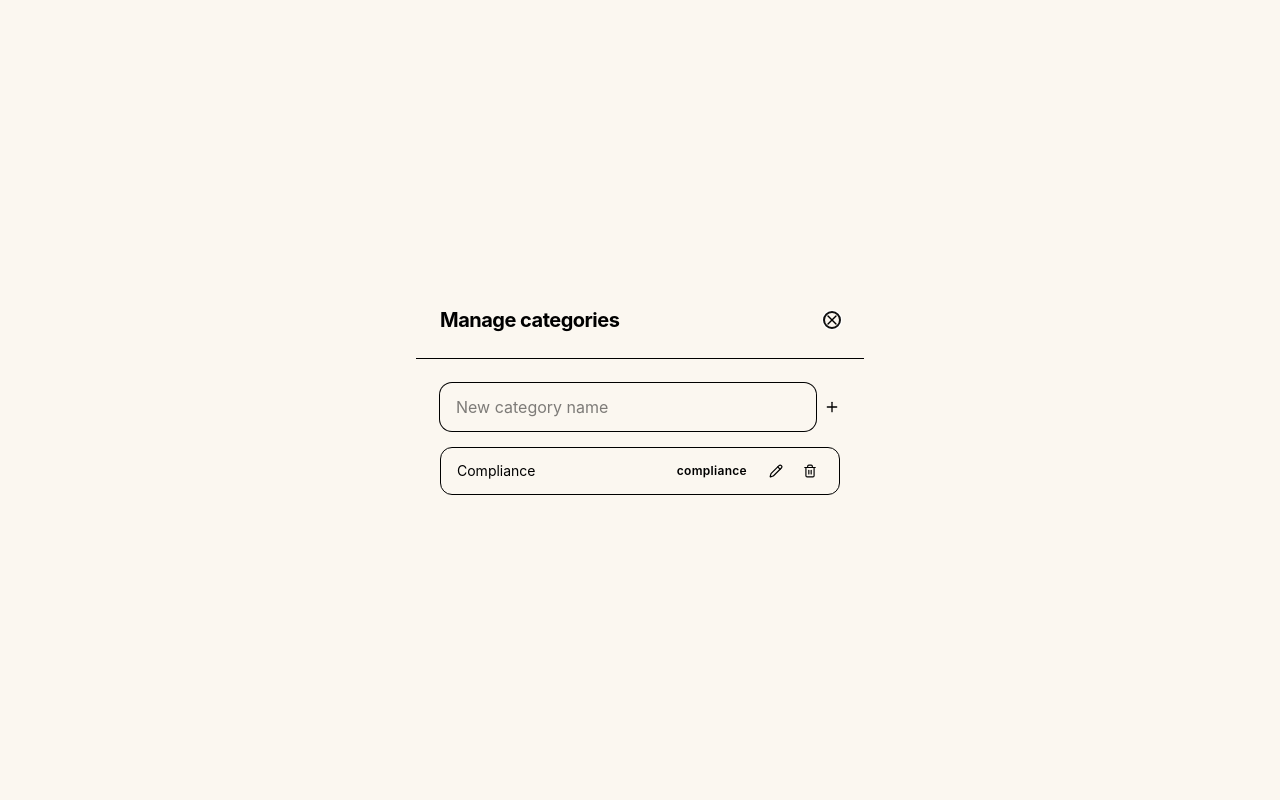
Scenario: CategoriesDialog › renames a category, and a rename can be cancelled
Expected: the text "Compliance" is shown, [457,462,536,478]
Click the button named "Rename Compliance" at (776, 470), box [763,458,789,484]
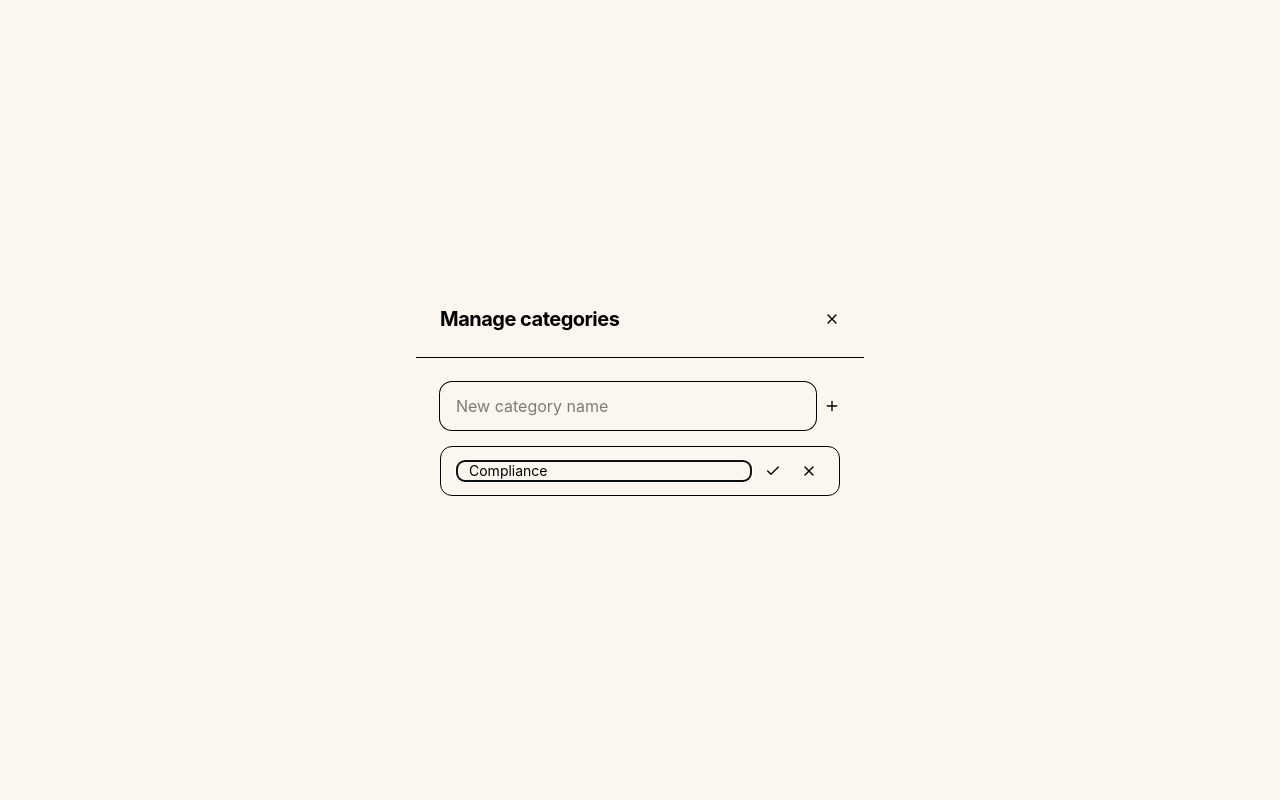
Click the button named "Cancel rename" at (809, 470), box [795,456,823,484]
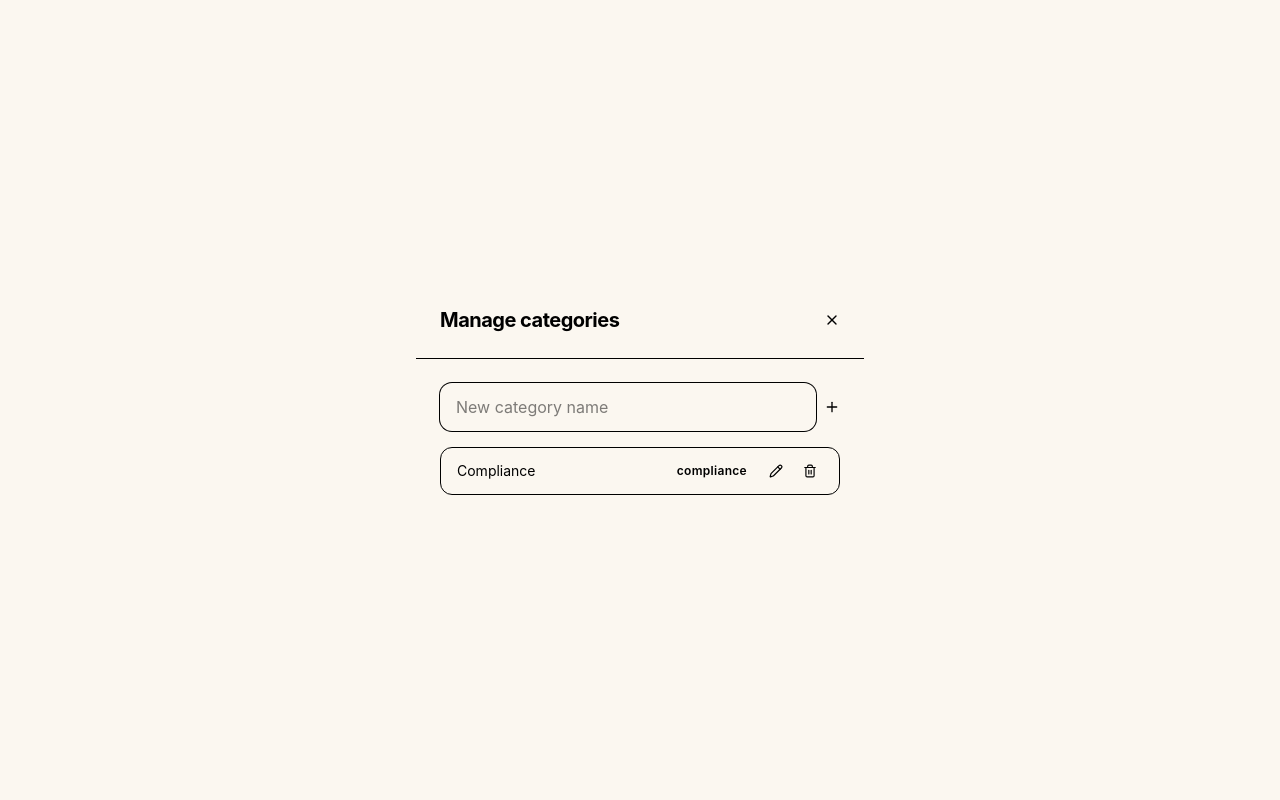
Expected: the text "Compliance" is shown, [457,462,536,478]
Click the button named "Rename Compliance" at (776, 470), box [763,458,789,484]
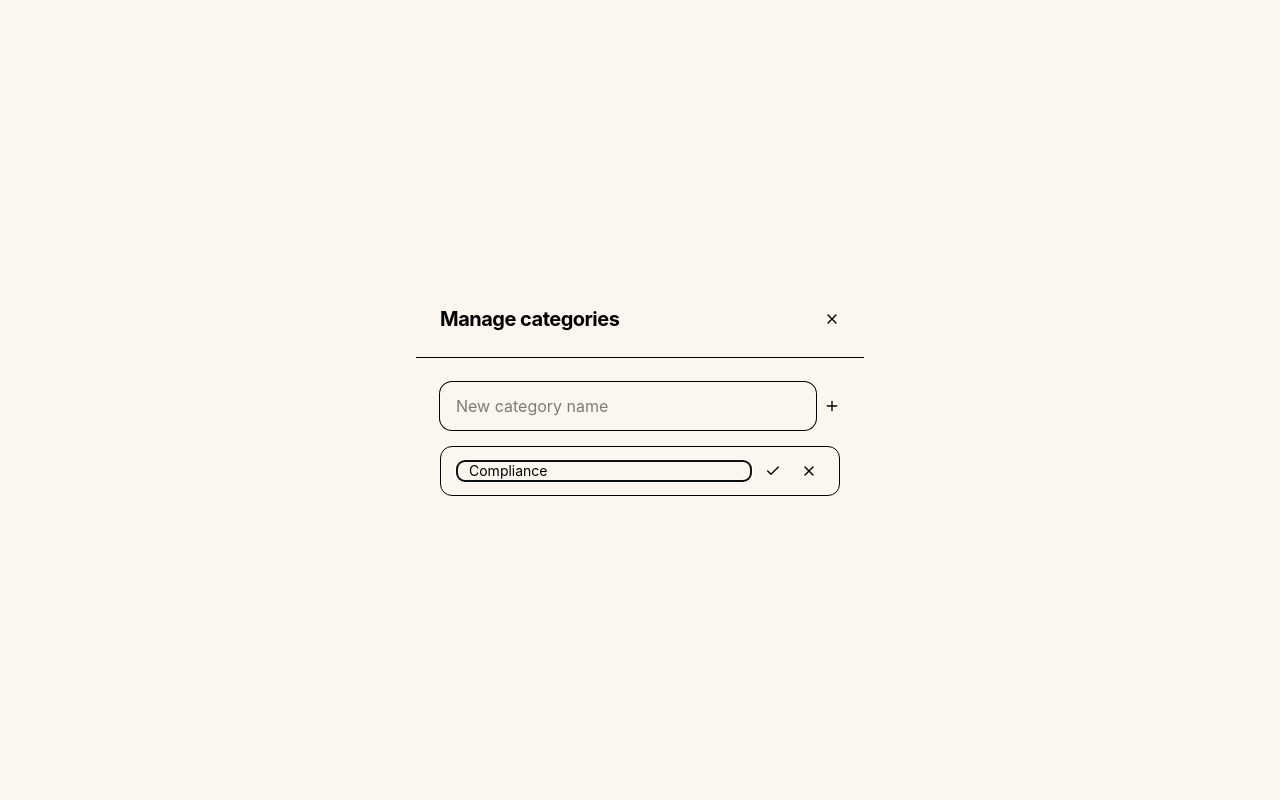
Replace the text in the field named "Rename Compliance" with "Regulatory" at (604, 470), box [457,460,751,480]
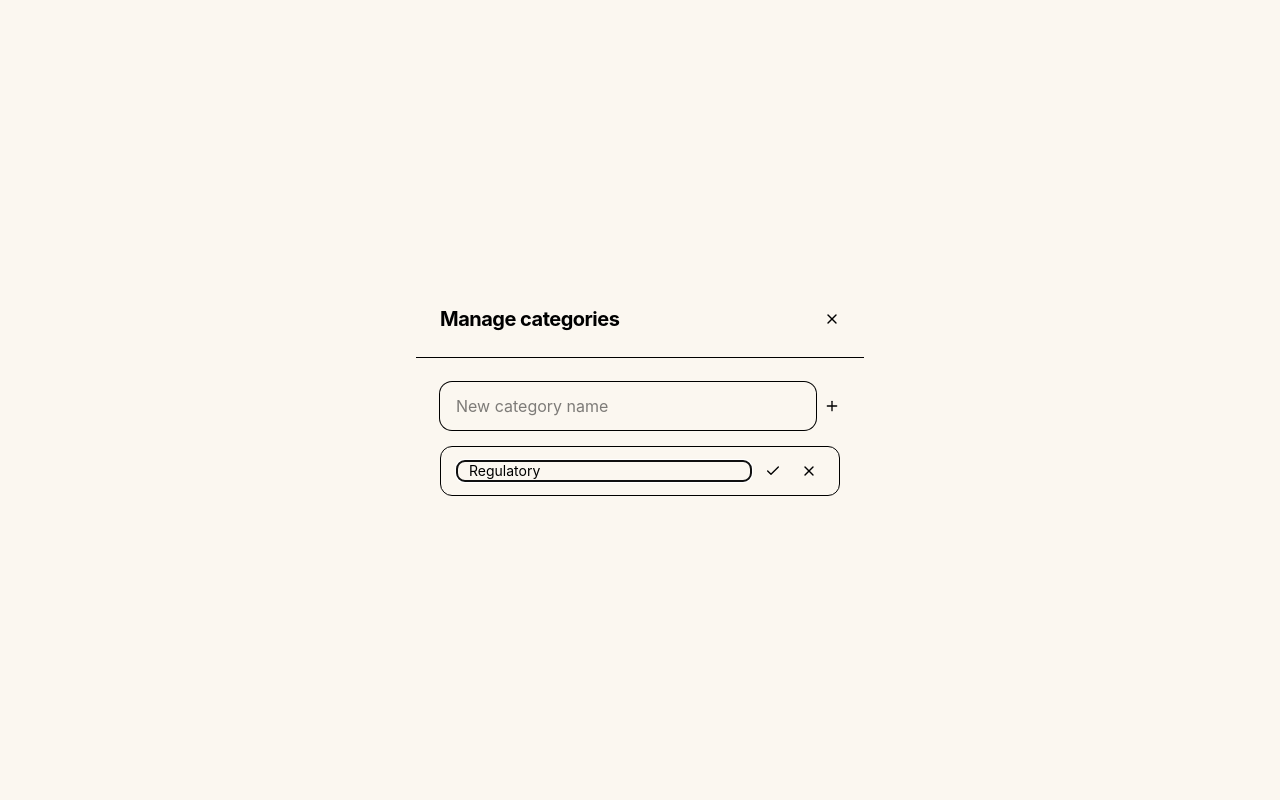
Click the button named "Save category name" at (773, 470), box [759,456,787,484]
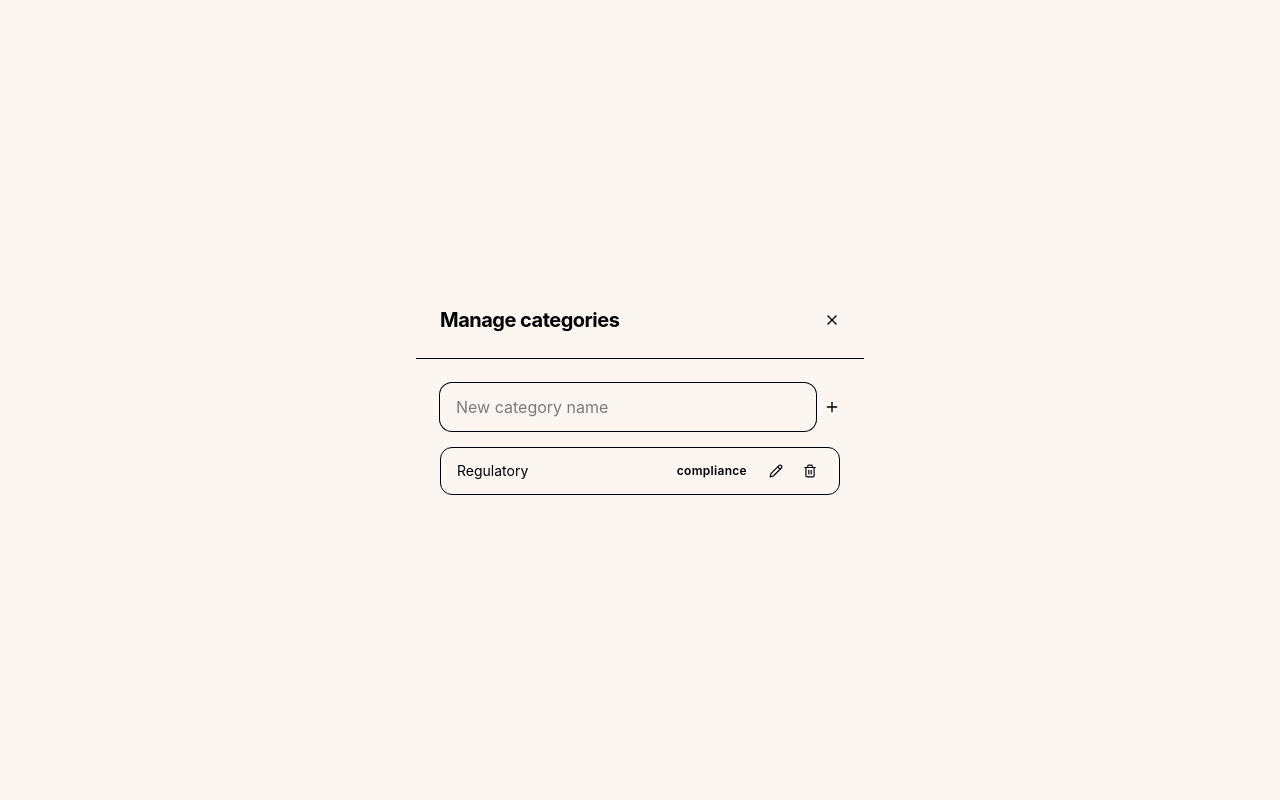
Expected: the text "Regulatory" is shown, [457,462,528,478]
